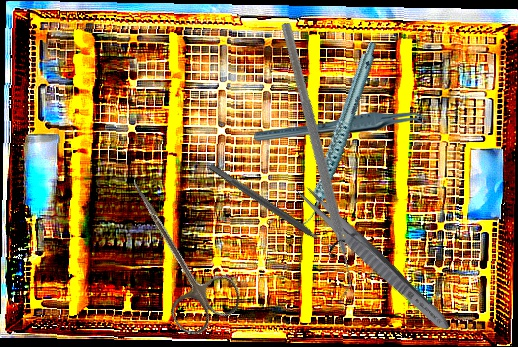Chopper: (168, 19, 457, 307)
Dressing Forceps: (289, 179, 456, 336)
Fixation Ring: (203, 155, 347, 261)
Handpiece: (264, 40, 413, 231)
Iris Scissors: (101, 165, 248, 342)
Tissue Forceps: (254, 111, 430, 142)
